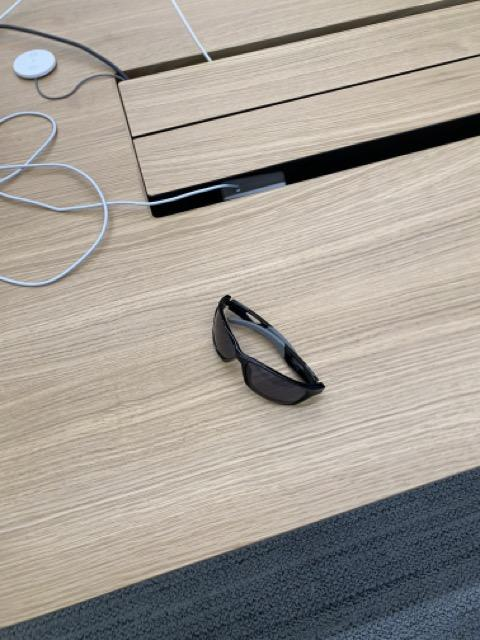Sunglasses: (212, 293, 325, 408)
